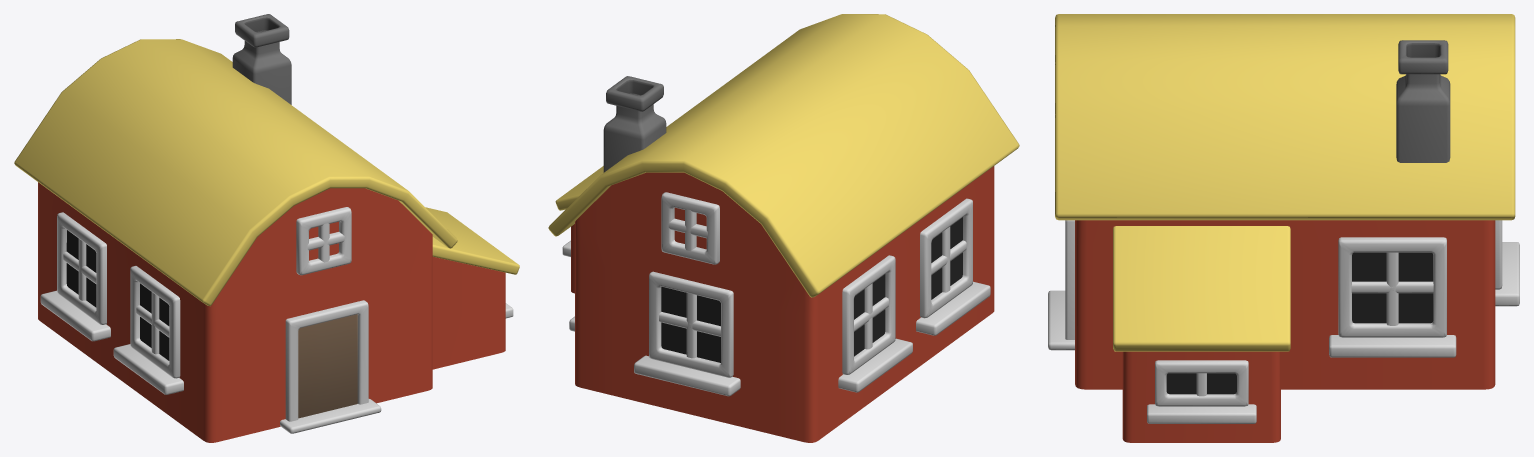
The model's file is House_06.fbx.
3 views of the same model, side by side, from view 1: azimuth 30°, elevation 25°; view 2: azimuth 150°, elevation 25°; view 3: azimuth 270°, elevation 25° (orthographic). The views are drawn at different scales.
Parts seen in each view (by area): view 1: House_06; view 2: House_06; view 3: House_06.
Part boxes in pixels (x1,y1,x2,y2): House_06: (14,14,519,442); House_06: (548,14,1019,442); House_06: (1048,14,1519,442).
Bounding box in the file's own units: 5050 × 3632 × 4819.
